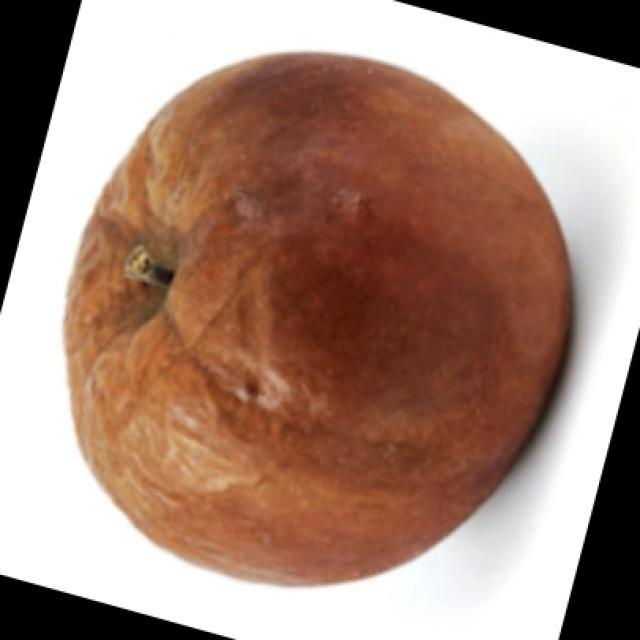Rotten: (88, 57, 537, 588)
